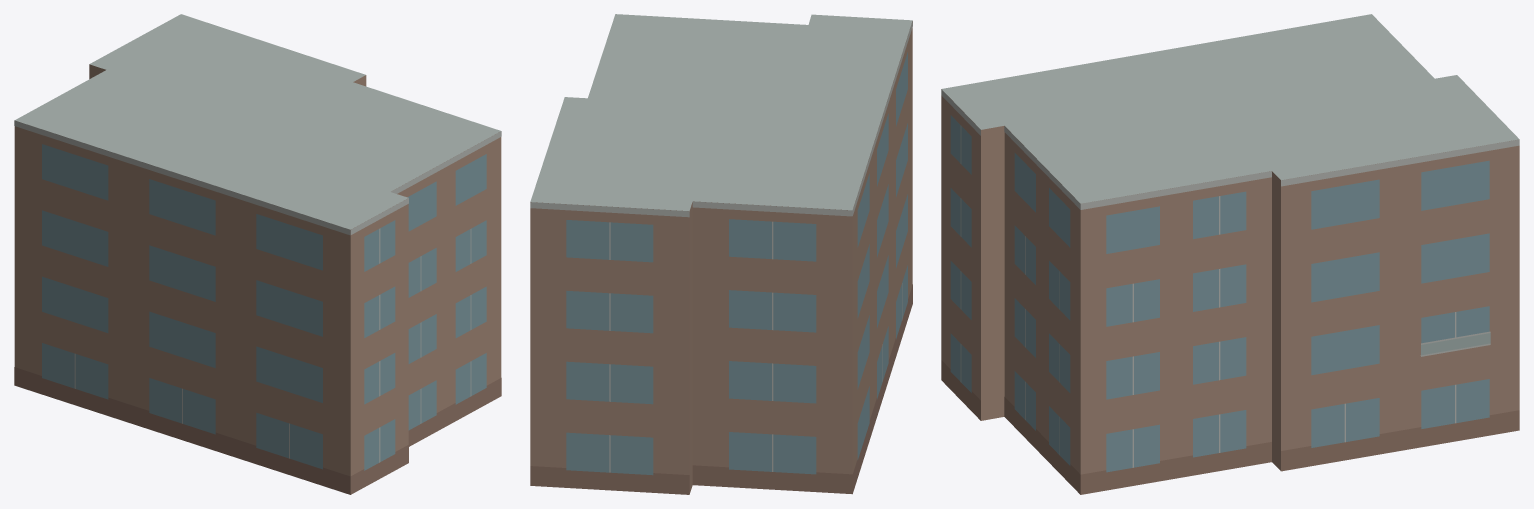
File: survey-upis-32582926.glb
3 renders of one model, left to right at view 1: azimuth 30°, elevation 25°; view 2: azimuth 150°, elevation 25°; view 3: azimuth 270°, elevation 25°, orthographic. The views are drawn at different scales.
Visible parts, largest first — view 1: survey-upis-32582926.tmp; view 2: survey-upis-32582926.tmp; view 3: survey-upis-32582926.tmp.
Boxes of the visible parts, <box> form: survey-upis-32582926.tmp: <box>14,14,501,494</box>; survey-upis-32582926.tmp: <box>530,14,912,494</box>; survey-upis-32582926.tmp: <box>941,14,1519,494</box>.
Size of the model in its own units: 15.88 by 11.35 by 20.45.
